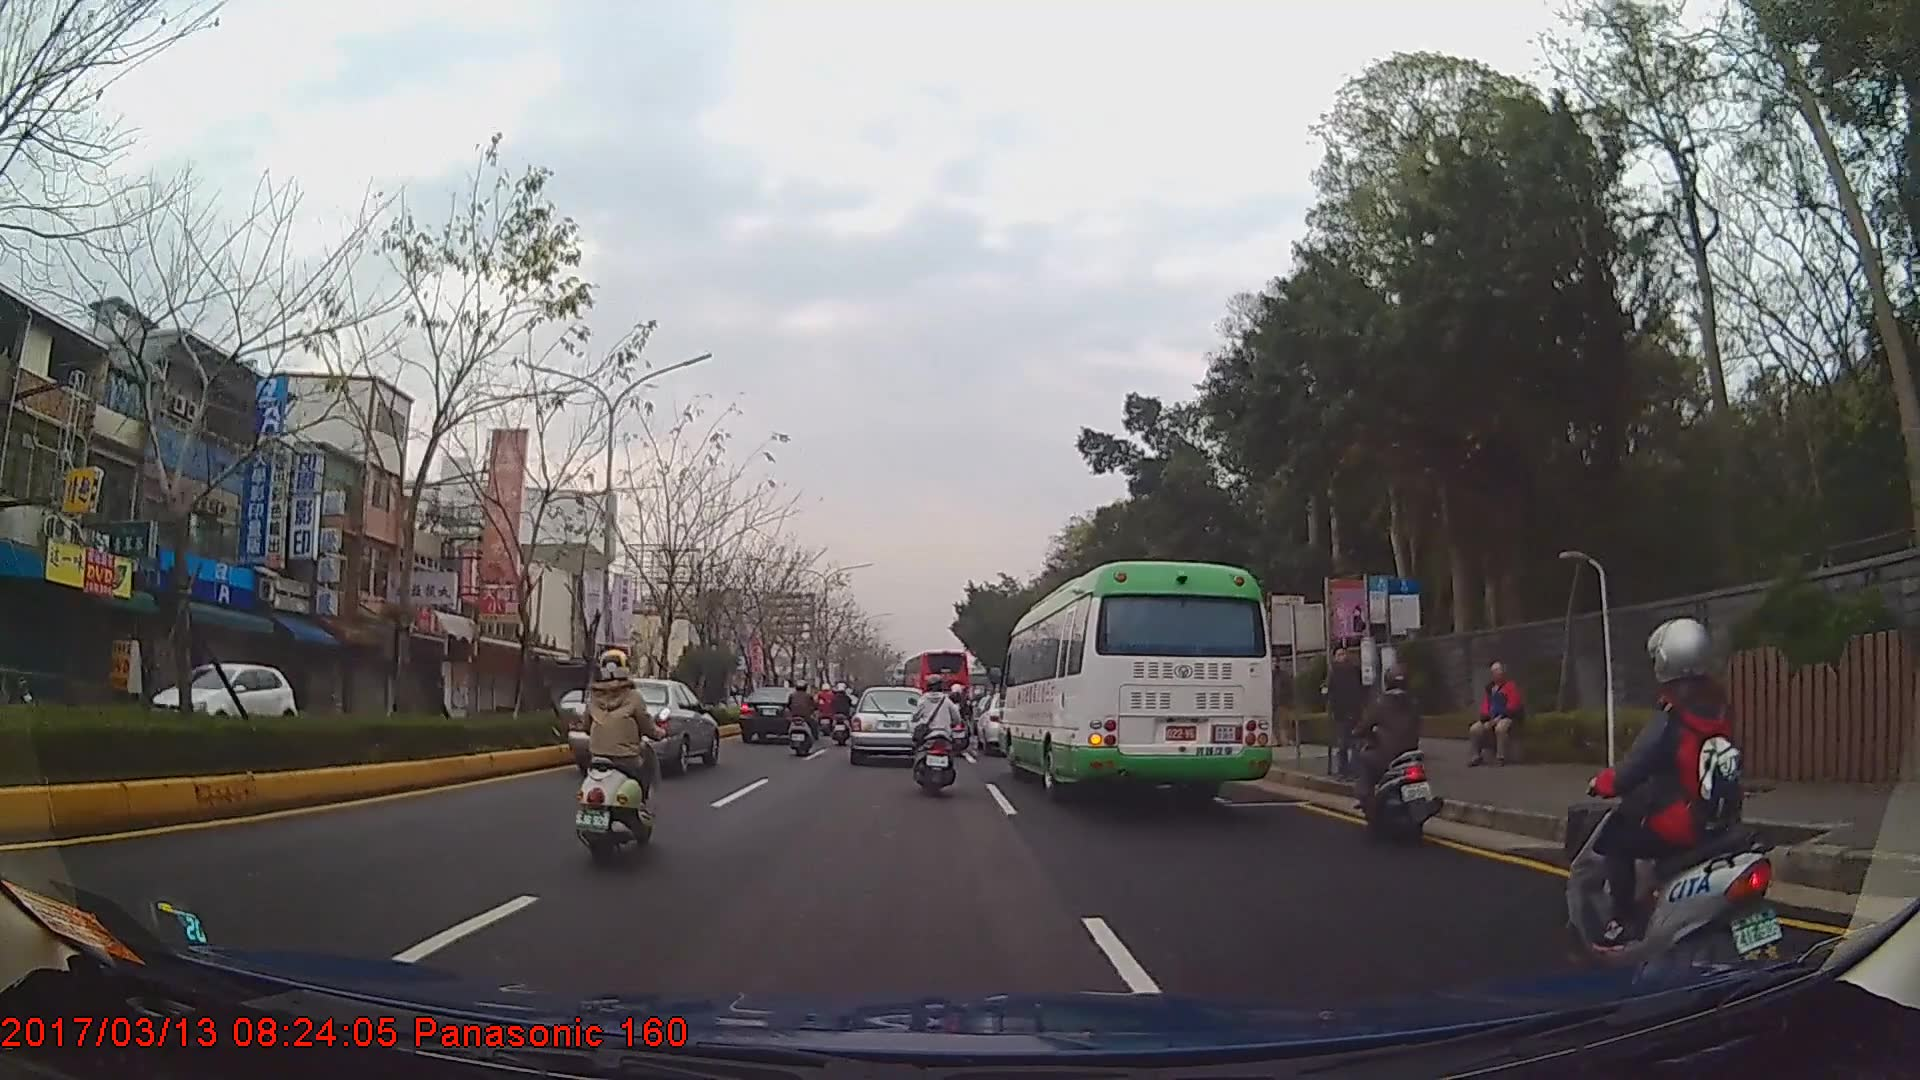pedestrian: (1322, 646, 1370, 781), (1470, 658, 1525, 769), (1267, 653, 1295, 748)
rider: (1565, 612, 1780, 980), (580, 646, 665, 869), (1350, 661, 1440, 847), (914, 675, 966, 796), (789, 679, 822, 758), (945, 681, 976, 739), (831, 684, 855, 746), (817, 684, 837, 738)
vehicle: (996, 560, 1274, 800), (565, 679, 717, 775), (142, 657, 298, 736), (847, 685, 932, 762), (738, 684, 819, 746), (904, 647, 974, 717)
